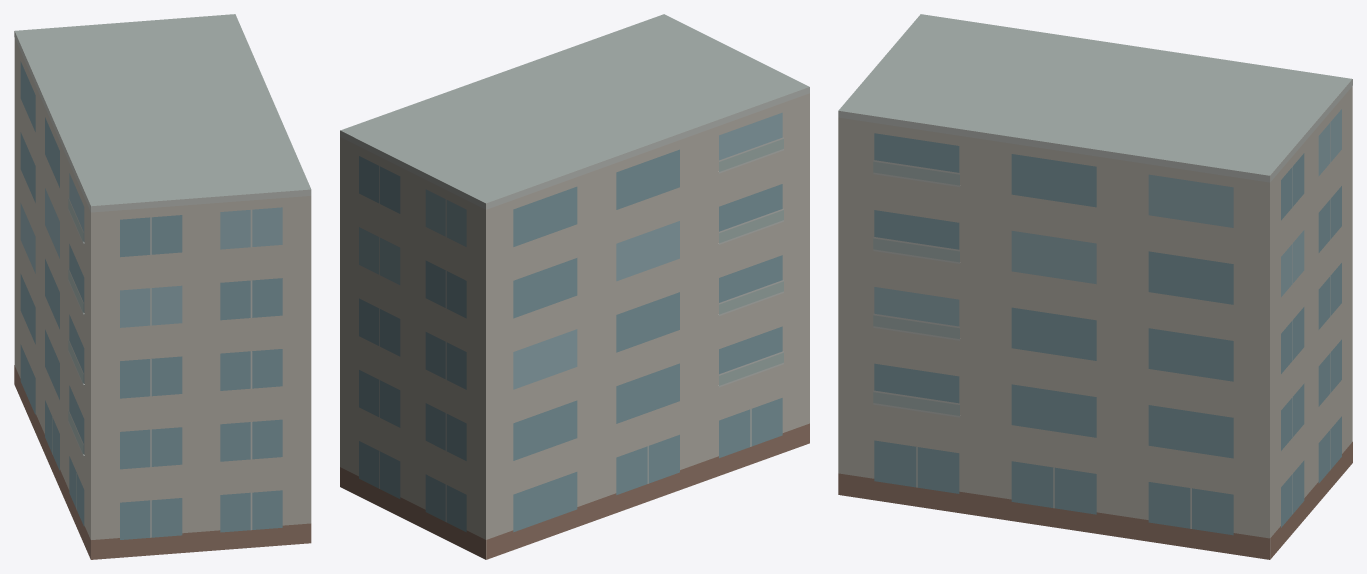
File: survey-upis-32851053.glb
3 renders of one model, left to right at view 1: azimuth 30°, elevation 25°; view 2: azimuth 150°, elevation 25°; view 3: azimuth 270°, elevation 25°, orthographic. The views are drawn at different scales.
Parts seen in each view (by area): view 1: survey-upis-32851053.tmp; view 2: survey-upis-32851053.tmp; view 3: survey-upis-32851053.tmp.
Boxes of the visible parts, x1,y1,x2,y2 form: survey-upis-32851053.tmp: [14, 14, 311, 559]; survey-upis-32851053.tmp: [340, 14, 809, 559]; survey-upis-32851053.tmp: [838, 14, 1352, 559].
Size of the model in its own units: 12.39 by 13.7 by 16.64.
